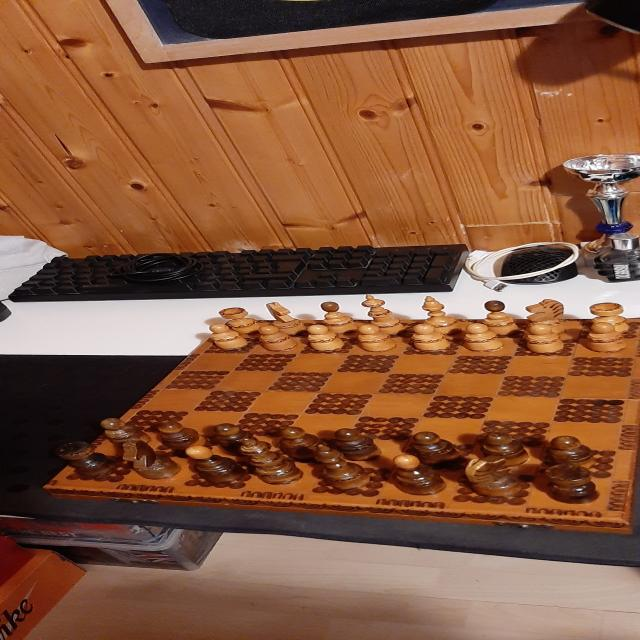black-bishop: (392, 454, 447, 496), (185, 446, 246, 482)
black-king: (238, 438, 304, 486)
black-knight: (122, 440, 182, 480), (465, 455, 521, 497)
black-pawn: (480, 431, 529, 466), (412, 431, 461, 465), (545, 436, 593, 470), (334, 428, 383, 461), (157, 421, 210, 451), (100, 418, 152, 446), (279, 426, 322, 459), (213, 423, 258, 451)
black-queen: (314, 444, 372, 490)
black-rook: (544, 464, 601, 504), (56, 441, 117, 476)
white-bishop: (482, 300, 519, 336), (320, 301, 358, 335)
white-king: (362, 294, 406, 336)
white-knight: (525, 299, 564, 334), (266, 302, 306, 335)
white-pawn: (462, 323, 504, 353), (587, 322, 626, 353), (525, 324, 564, 354), (358, 324, 397, 353), (411, 324, 450, 352), (306, 325, 345, 352), (258, 326, 298, 352), (210, 324, 248, 350)
white-queen: (422, 296, 462, 335)
white-rook: (590, 302, 630, 334), (218, 307, 261, 333)
